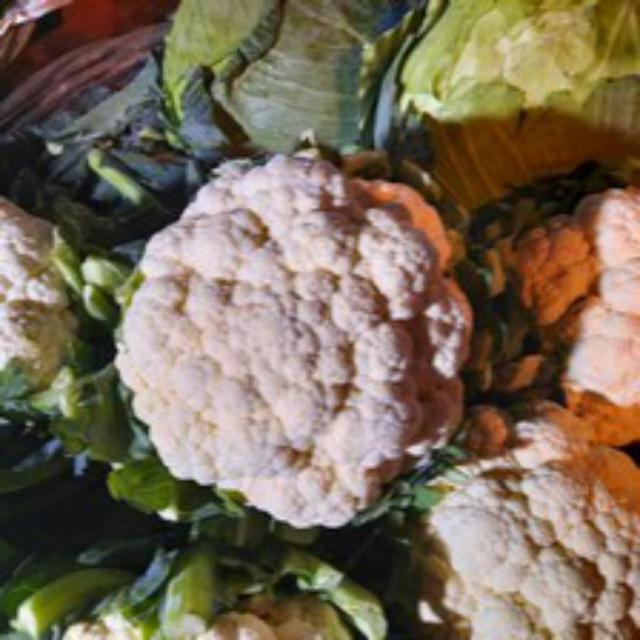cauliflower: (117, 146, 479, 533)
